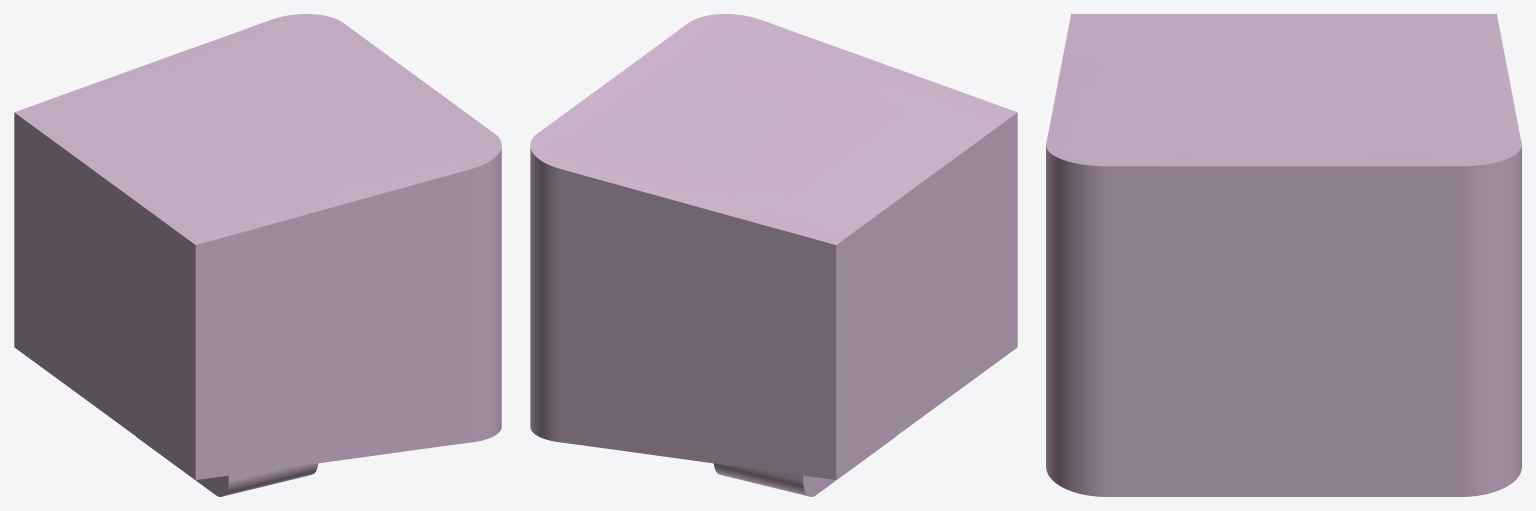
File: OUTFITTING_INTERIOR__EXT. INSTRUMENTS__FWD MAST__Searchlight D-SS PRO Driving Pod.glb
3 views of the same model, side by side, from view 1: azimuth 30°, elevation 25°; view 2: azimuth 150°, elevation 25°; view 3: azimuth 270°, elevation 25° (orthographic). The views are drawn at different scales.
Size of the model in its own units: 0.0889 by 0.0889 by 0.0994.
